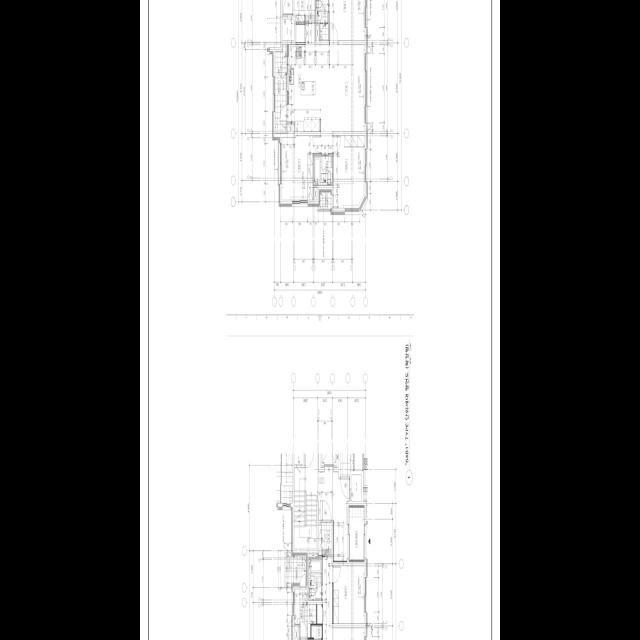background: (140, 0, 500, 640)
space_balconi: (294, 588, 316, 638), (275, 44, 287, 133), (320, 192, 331, 208)
space_bedroom: (282, 135, 320, 199), (334, 135, 365, 207), (333, 565, 365, 623), (329, 0, 365, 40)
space_elevator: (320, 453, 339, 467)
space_elevator_hall: (317, 453, 350, 561)
space_front: (349, 505, 365, 561), (318, 522, 332, 554), (294, 0, 315, 21)
space_kitchen: (289, 44, 320, 131)
space_living_room: (305, 23, 365, 152), (322, 557, 365, 640), (296, 24, 305, 41), (317, 604, 323, 624)
space_other: (352, 474, 362, 501), (282, 18, 294, 40), (311, 625, 322, 638), (294, 453, 303, 464), (294, 625, 299, 640), (288, 123, 294, 133), (316, 25, 319, 40), (314, 187, 317, 199)
space_staircase: (294, 453, 317, 548)
space_toilet: (314, 155, 333, 185), (309, 558, 322, 600), (316, 0, 328, 22), (320, 23, 328, 39)
